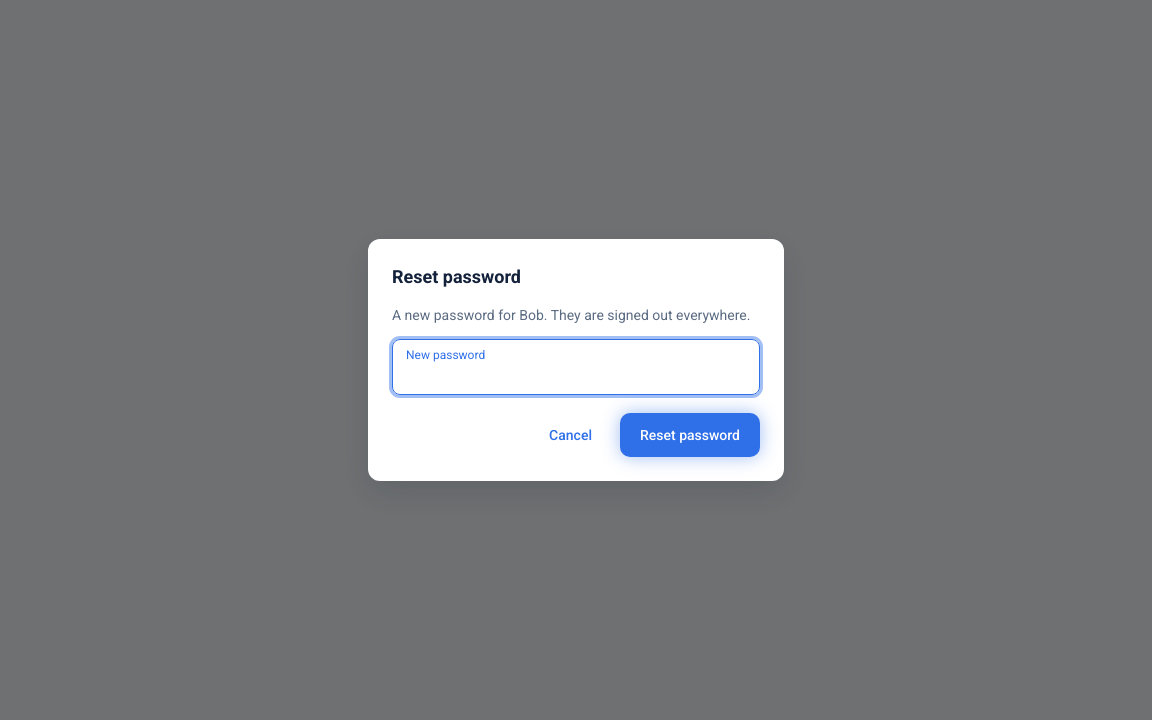
Test case: ResetPasswordDialog › refuses a short password before asking the server
Type "too short" into the password field labelled "New password".
click(576, 367); type("too short")  # box [392,339,760,395]
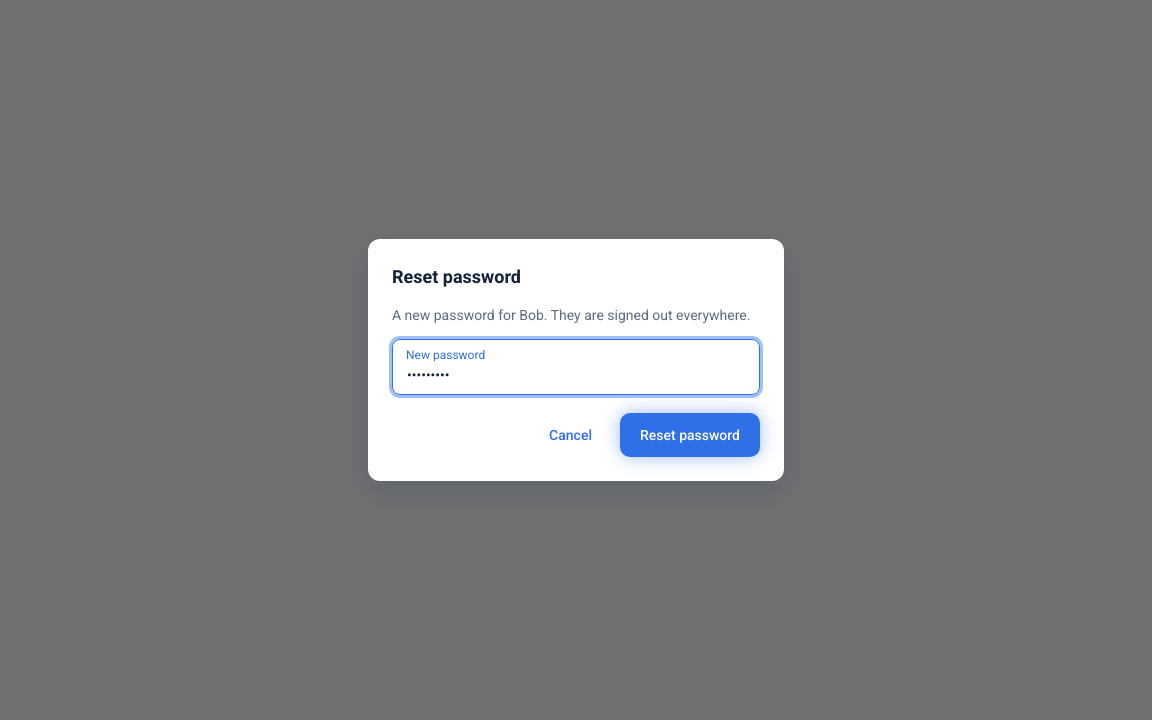
Click the button "Reset password".
click(690, 435)  # box [620,413,760,457]
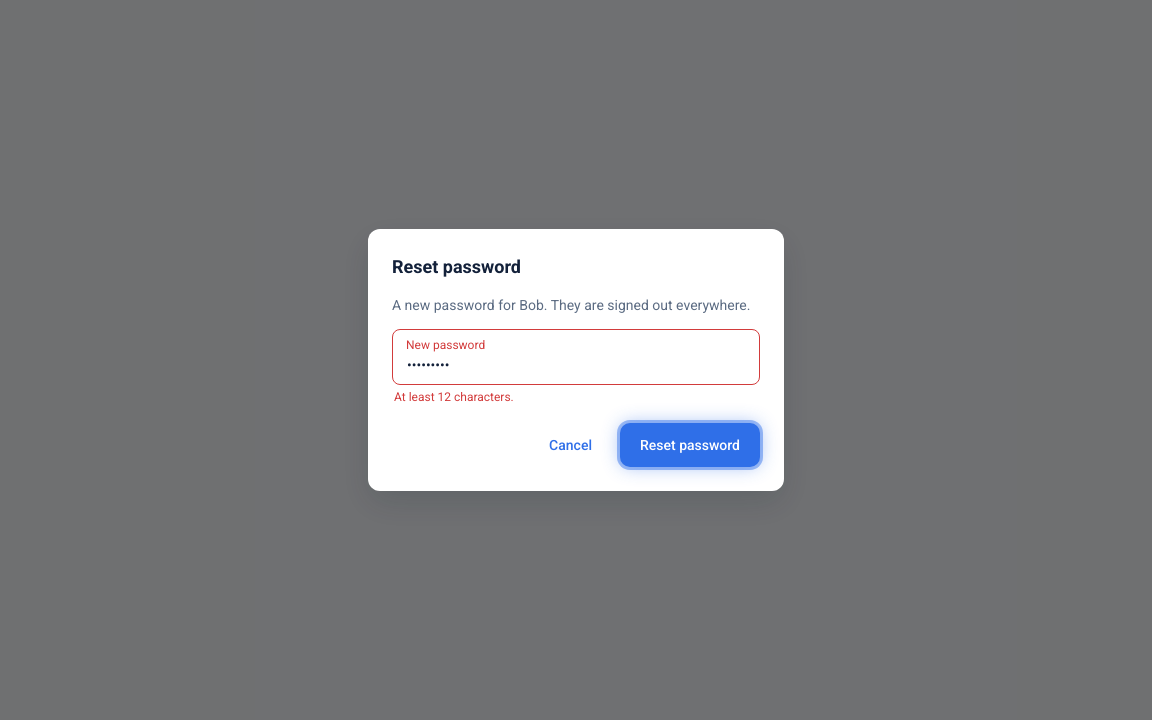
Expected: the text "At least 12 characters." is shown, [394,390,514,404]
